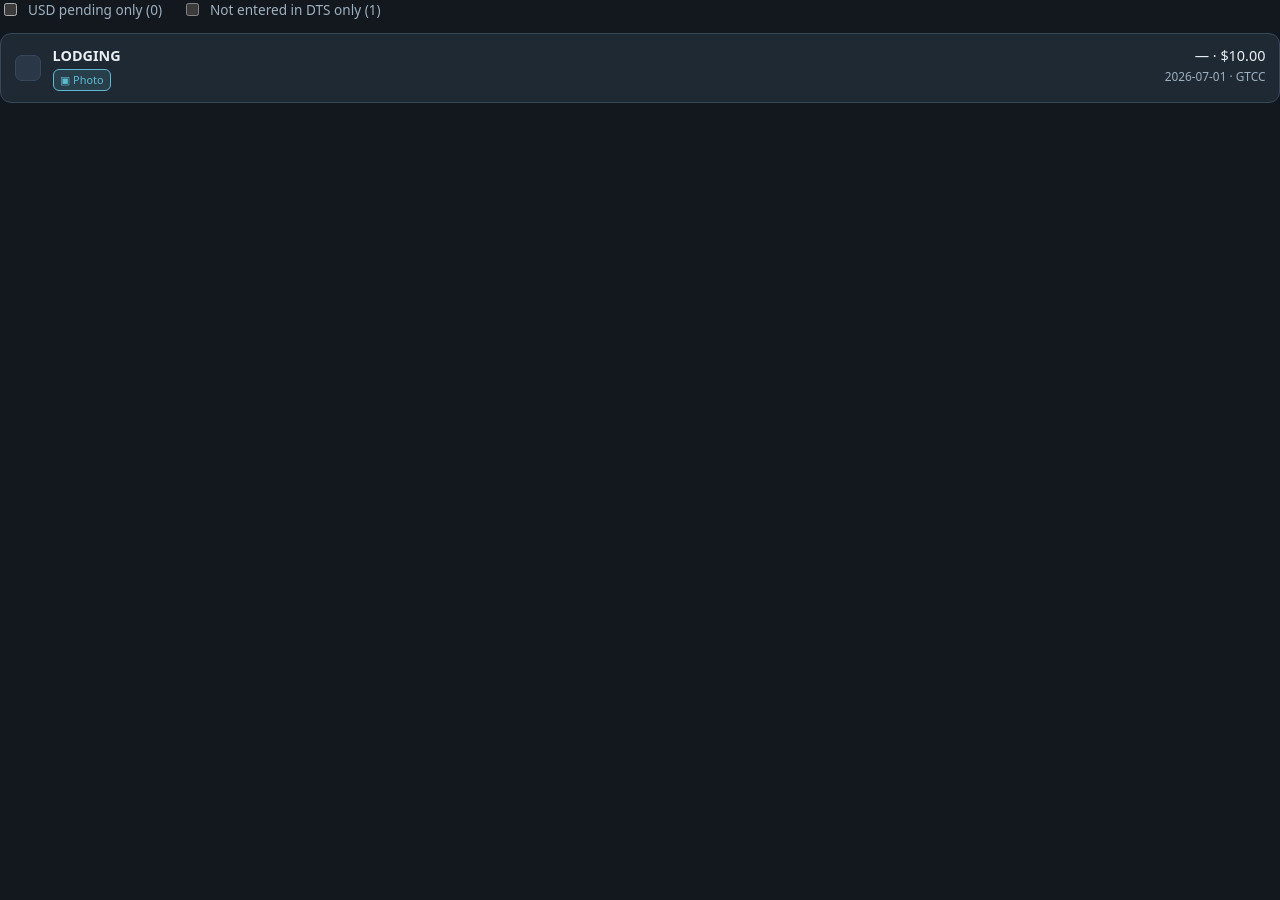
Test: ExpenseList — receipt photos › opens the photo in a lightbox, fetching the blob only on tap
The image size is (1280, 900).
Step 1. Click the button with aria-label "view receipt photo" → (82, 80), box [53,69,111,91]
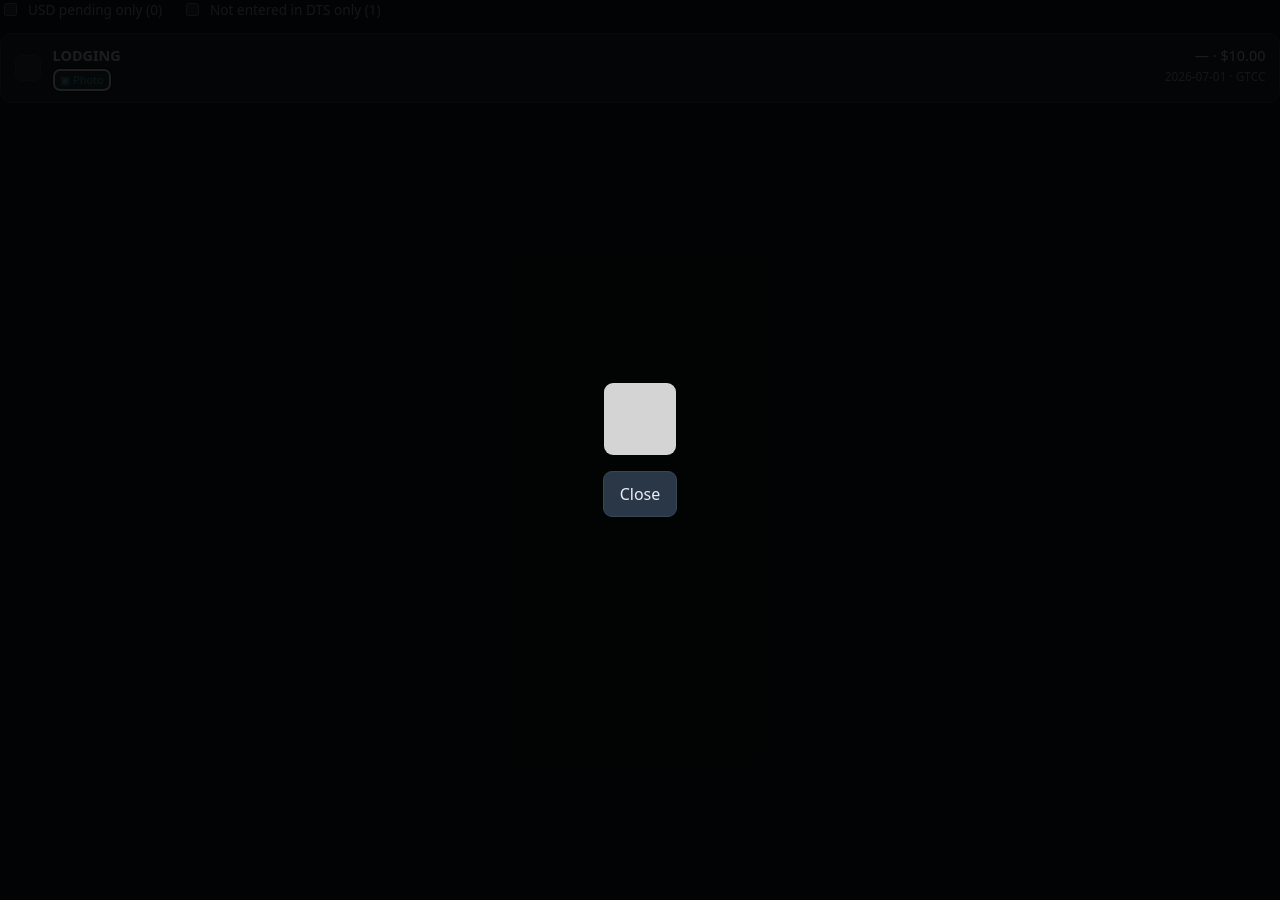
Result: the dialog is shown
Step 2. Click the button with aria-label "close receipt photo" → (640, 494), box [603,471,677,517]
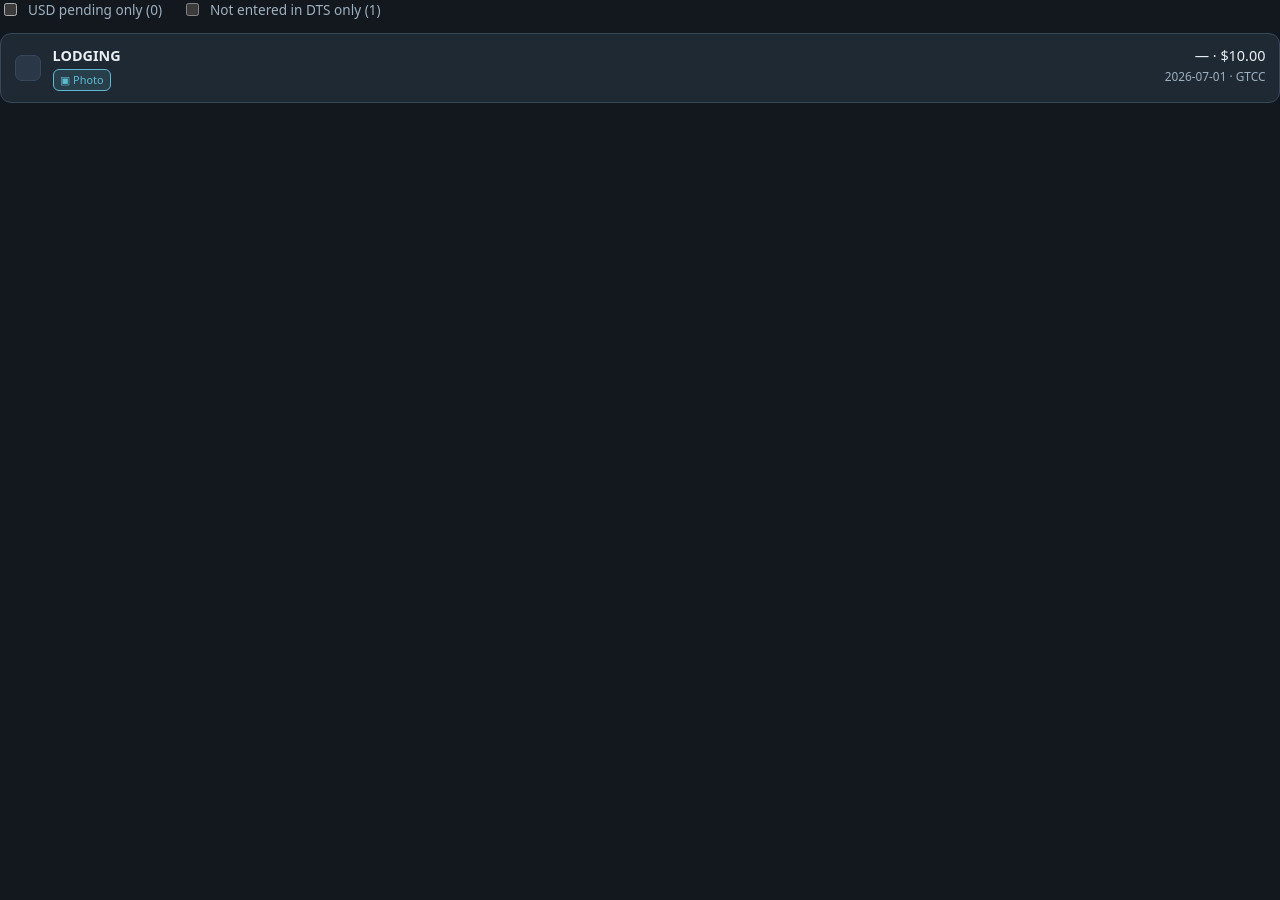
Result: the dialog is gone
